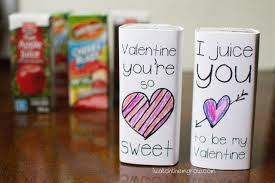Juice_Box: (117, 21, 180, 167), (191, 24, 253, 172)
